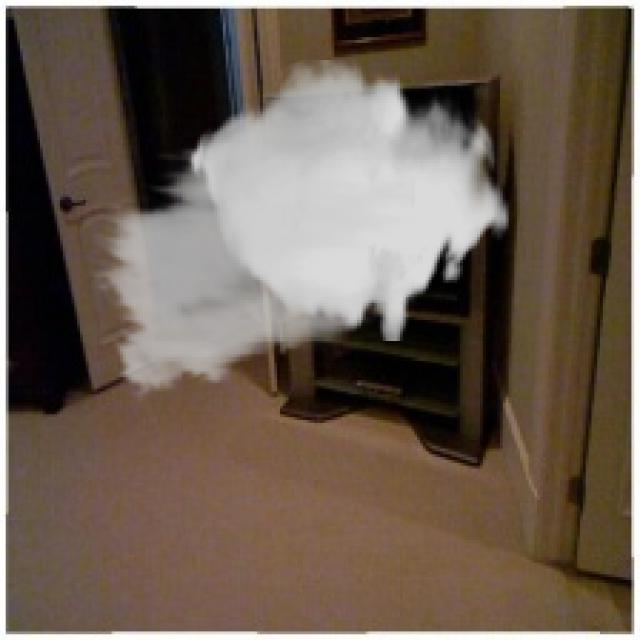smoke: (91, 60, 512, 406)
